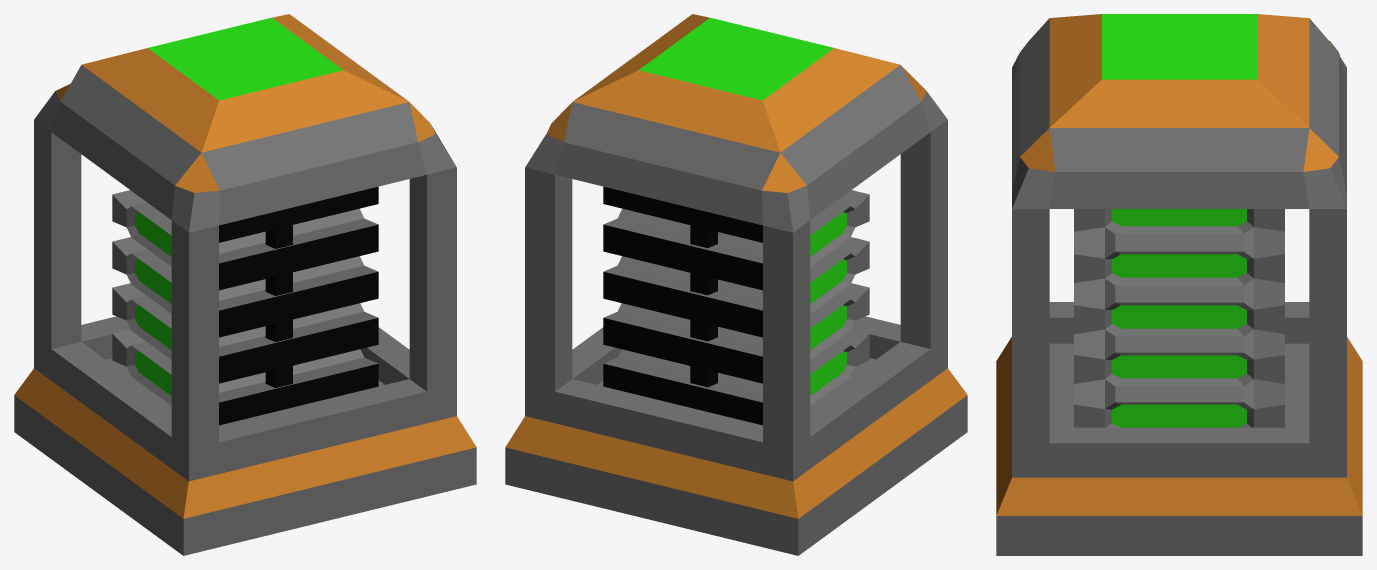
File: Battery.fbx
3 views of the same model, side by side, from view 1: azimuth 30°, elevation 25°; view 2: azimuth 150°, elevation 25°; view 3: azimuth 270°, elevation 25° (orthographic). The views are drawn at different scales.
Visible parts, largest first — view 1: Battery; view 2: Battery; view 3: Battery.
Part boxes in pixels (<box>): Battery: <box>14,14,476,555</box>; Battery: <box>505,14,967,555</box>; Battery: <box>996,14,1362,555</box>.
Size of the model in its own units: 184 by 239 by 184.
